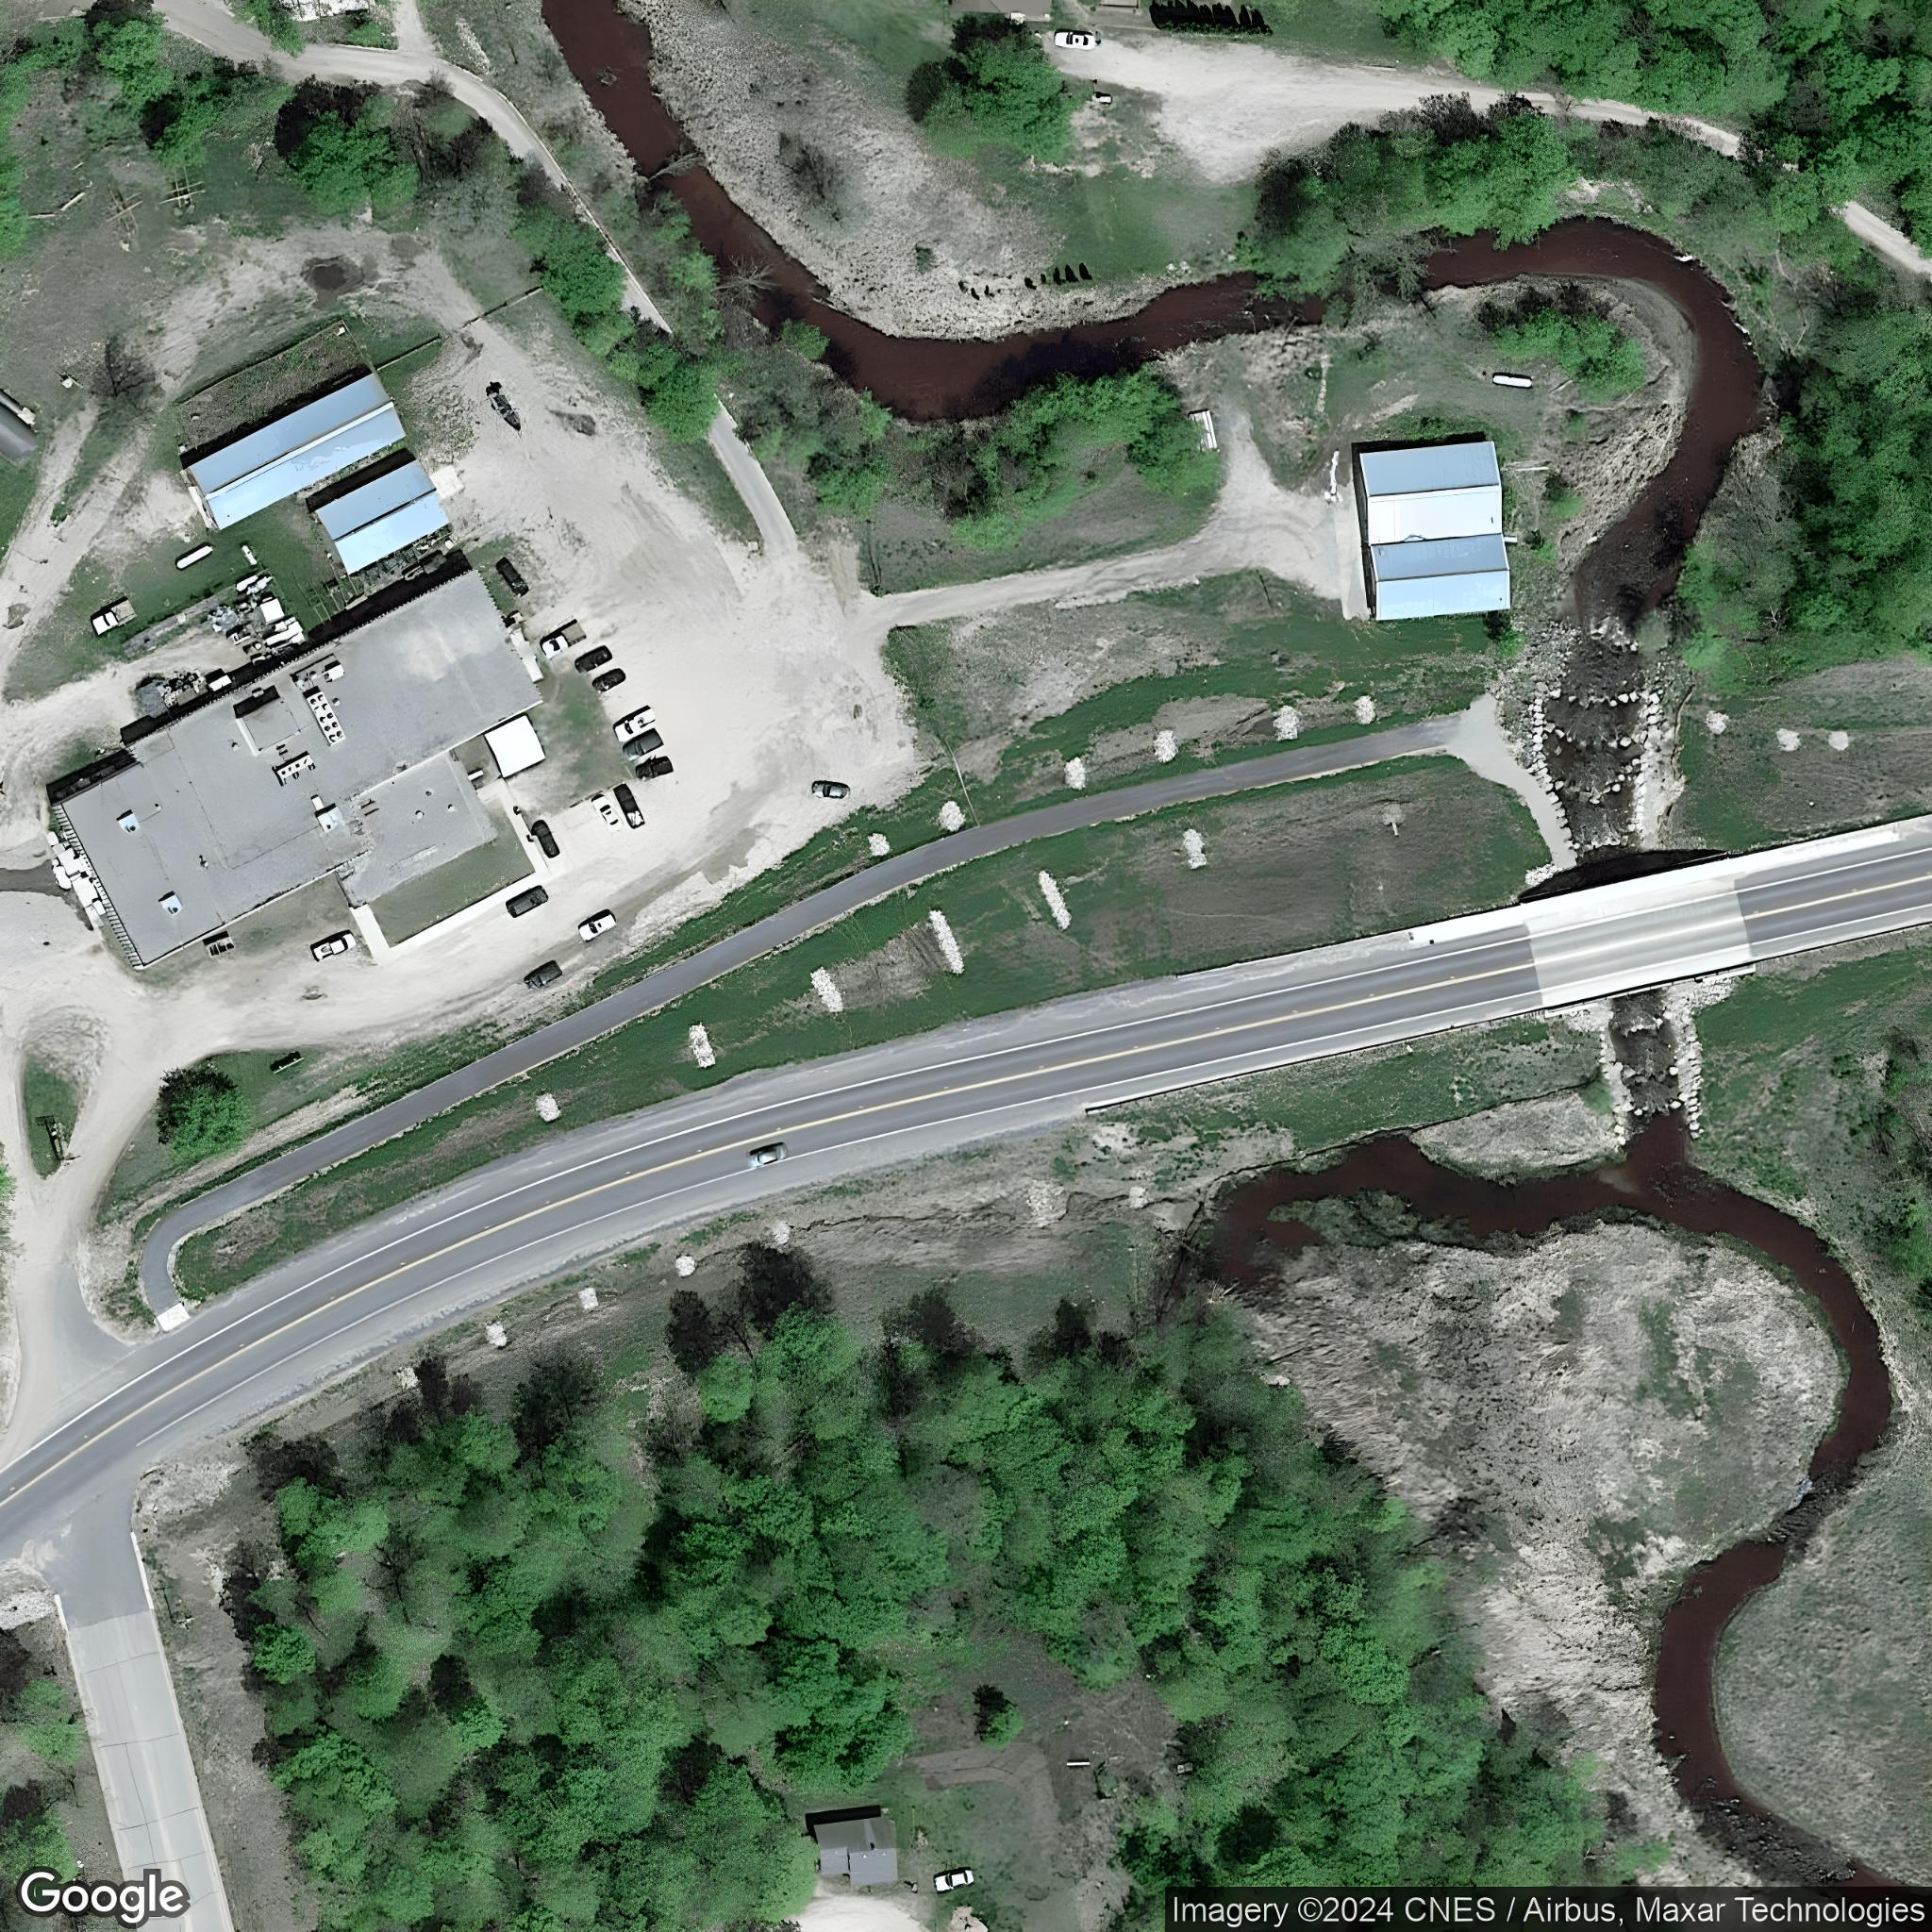House: (814, 1815, 901, 1888)
Other: (51, 566, 548, 973), (179, 370, 407, 534), (1355, 441, 1514, 619), (311, 458, 448, 577)
Propane: (173, 540, 216, 573), (1490, 372, 1534, 391), (239, 540, 260, 568), (465, 764, 487, 784)
